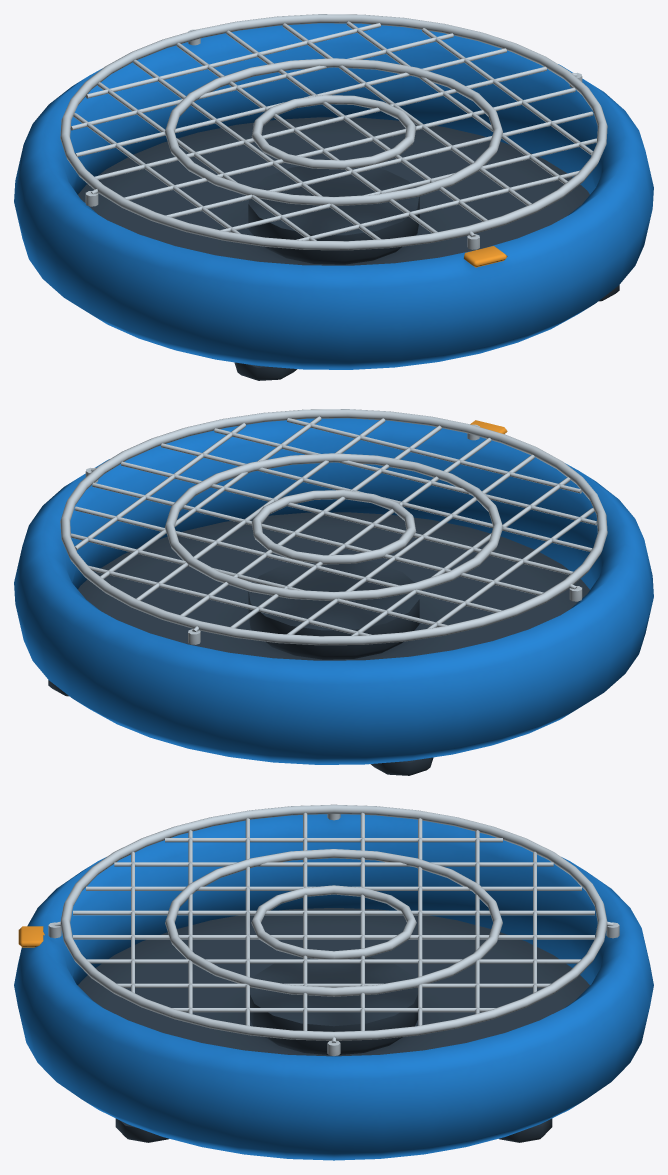
File: floor-fan.fbx
The picture shows the model from 3 angles, top to bottom: view 1: azimuth 30°, elevation 25°; view 2: azimuth 150°, elevation 25°; view 3: azimuth 270°, elevation 25°; orthographic projection.
Visible parts, largest first — view 1: floor-fan; view 2: floor-fan; view 3: floor-fan.
Boxes of the visible parts, <box> form: floor-fan: <box>14,14,653,380</box>; floor-fan: <box>14,409,653,775</box>; floor-fan: <box>14,804,653,1160</box>.
Bounding box in the file's own units: 15600 × 3600 × 15600.
Materials: 1 (1 with a texture image).
